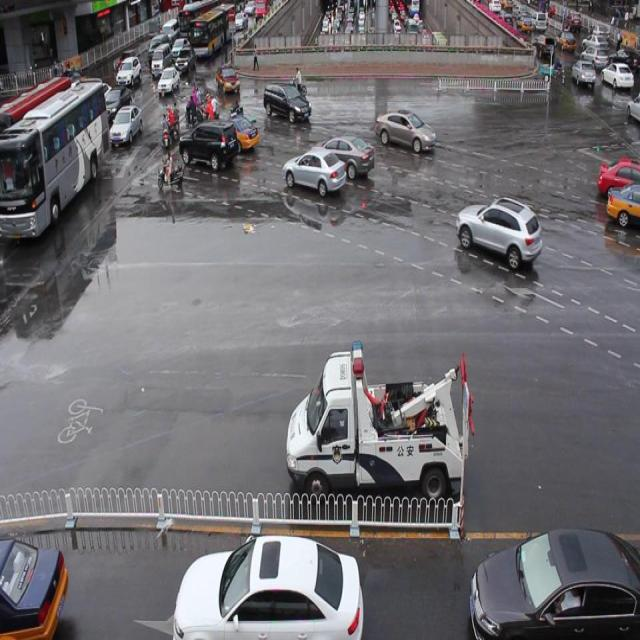bus: (285, 338, 464, 498)
car: (454, 195, 540, 272), (282, 146, 346, 197), (374, 106, 434, 155), (315, 134, 374, 180), (262, 80, 311, 124), (595, 158, 640, 203), (604, 179, 640, 230), (213, 114, 259, 152), (216, 63, 240, 95)
truck: (179, 118, 237, 168)
